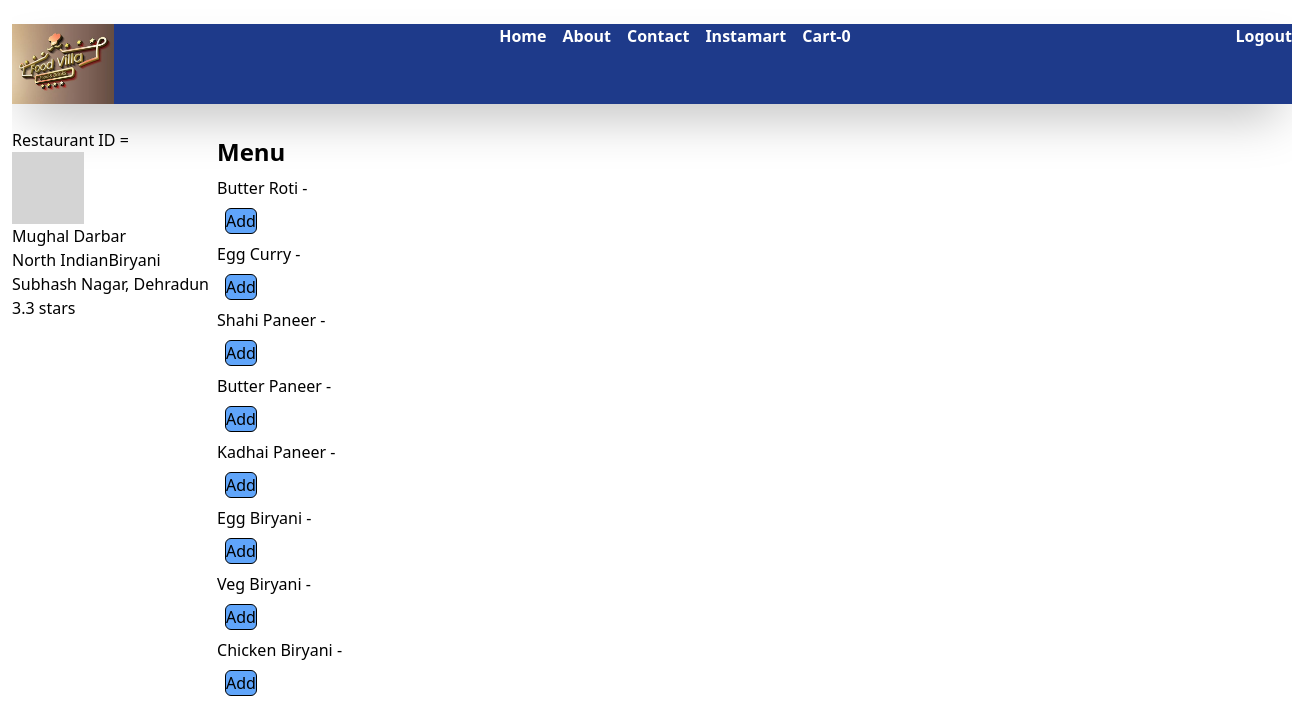
Scenario: Add Items to Cart
This screenshot has width=1304, height=706.
Step 1. Click the button with test id "addBtn" below "Butter Roti" → click(241, 221), box top-left (225, 208), bottom-right (257, 234)
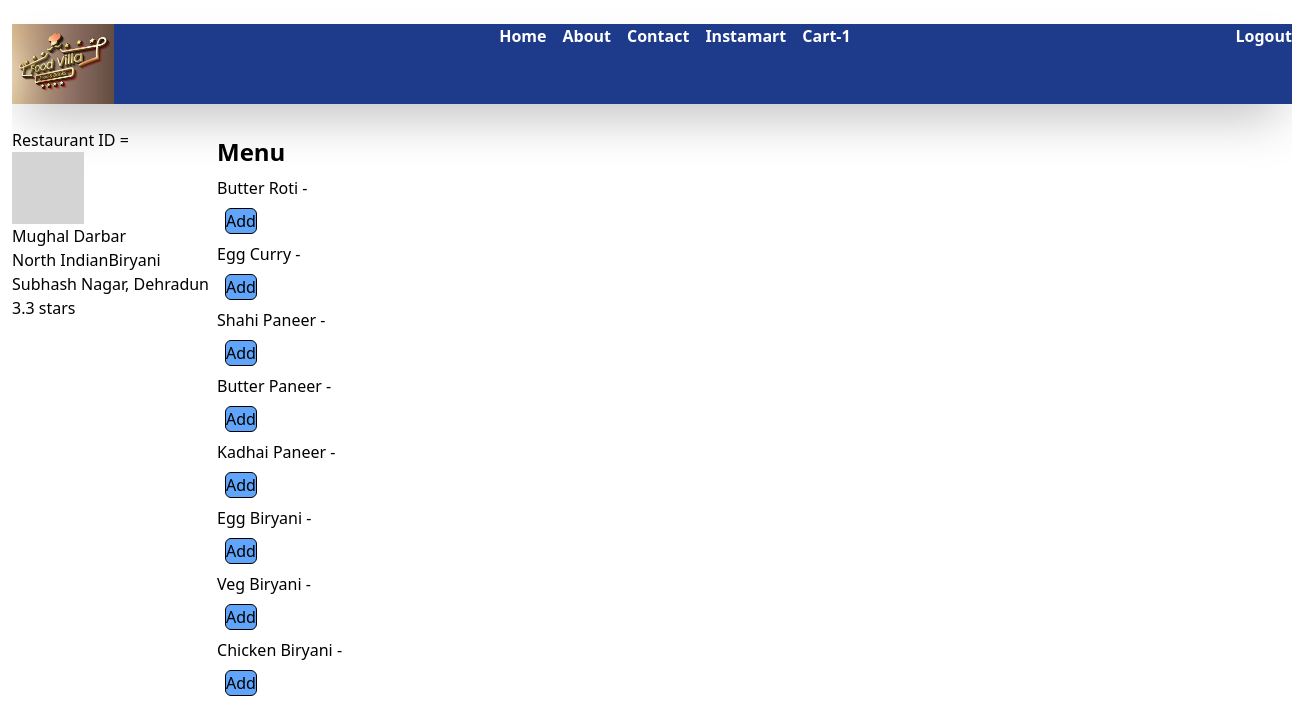
Expected: the link with test id "cart" reads "Cart-1", top-left (802, 25), bottom-right (851, 47)
